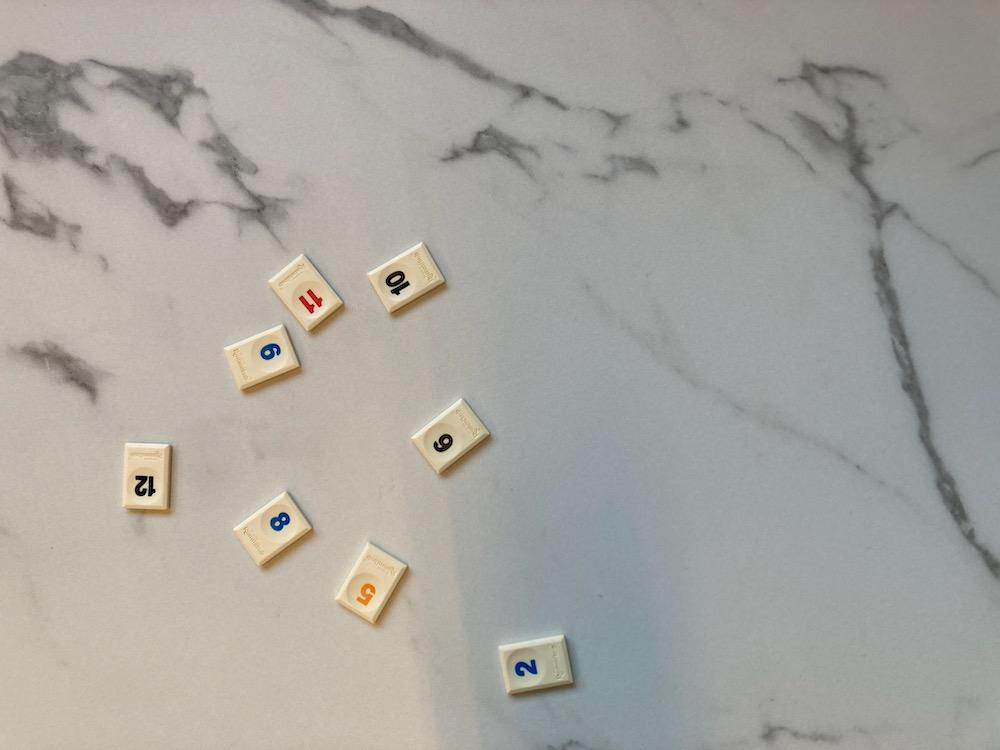black_10: (367, 242, 445, 312)
black_12: (123, 444, 172, 510)
black_6: (412, 398, 490, 473)
blue_2: (499, 635, 572, 693)
blue_6: (227, 324, 299, 389)
blue_8: (234, 492, 311, 566)
orange_5: (336, 543, 406, 623)
red_11: (270, 254, 342, 330)
